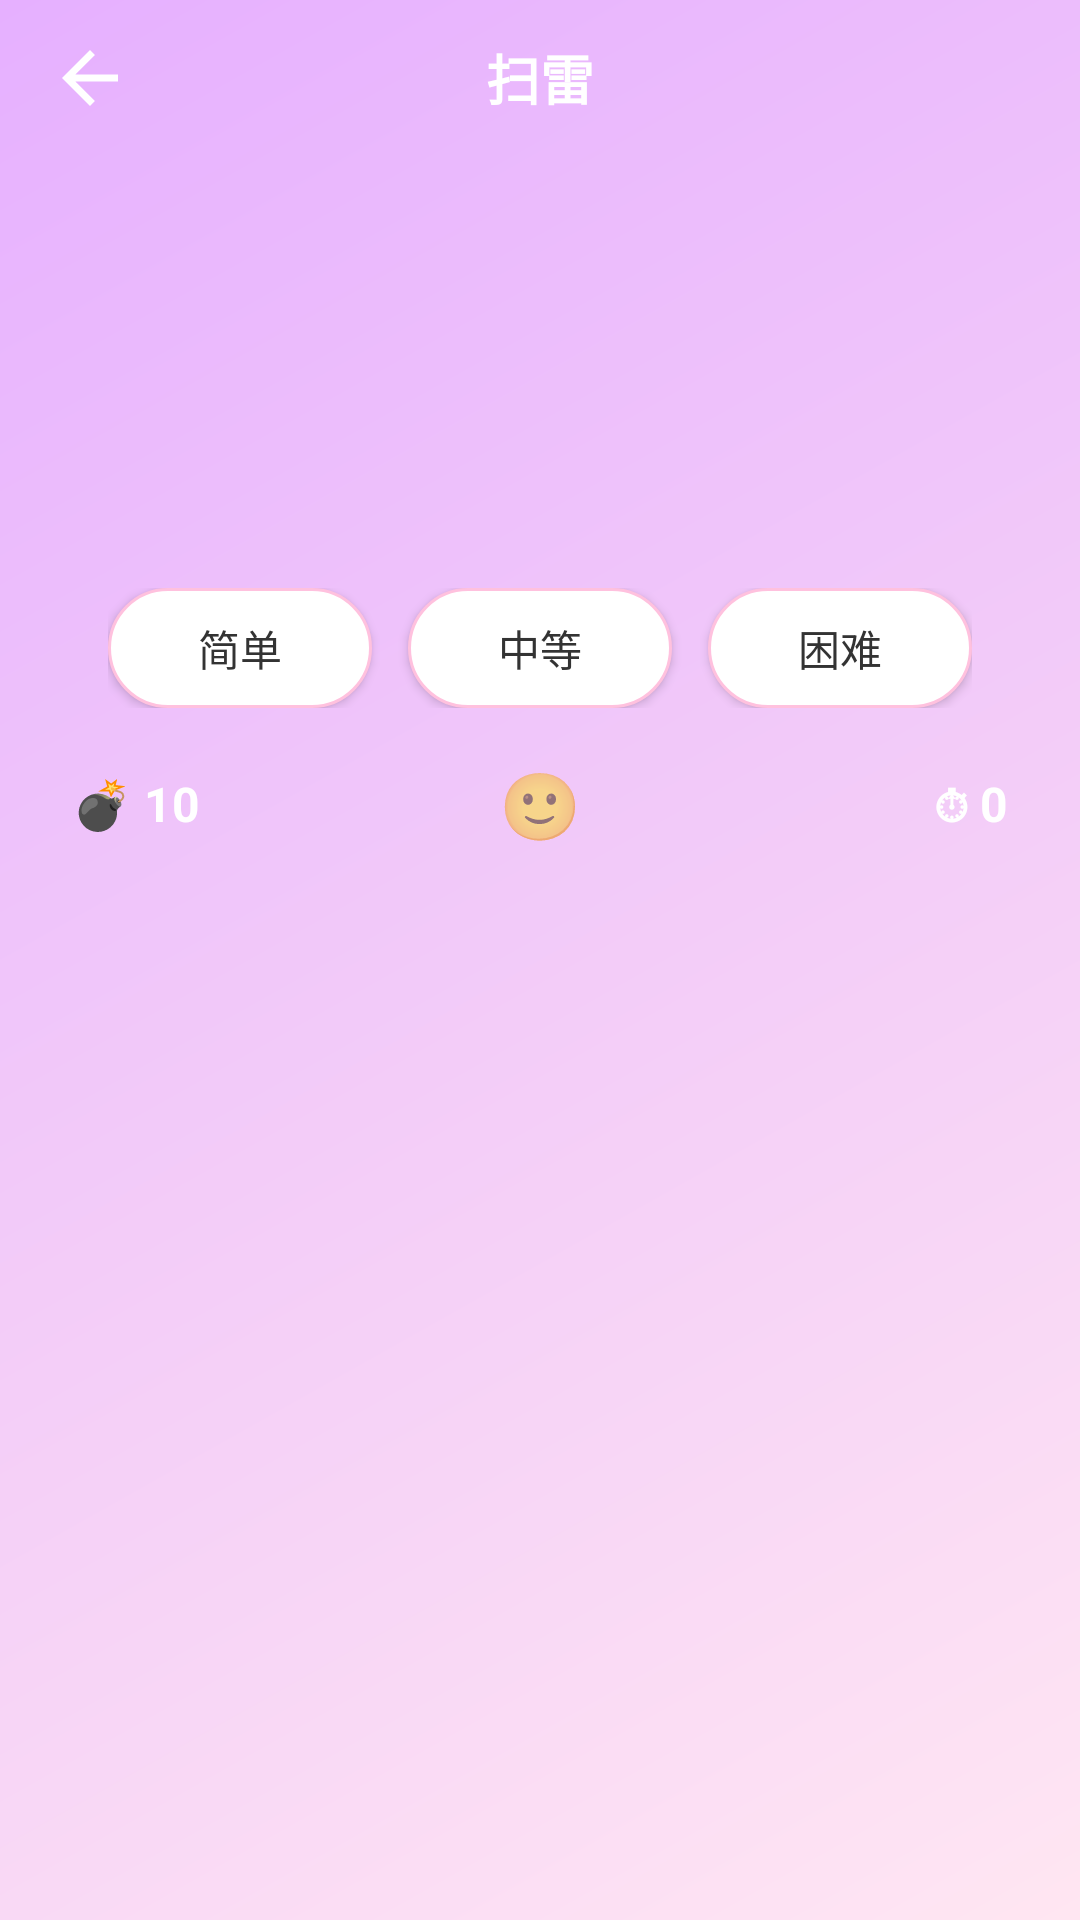

Named icons in this screenshot (1080*1920) and their bounding boxes, region(x1, y1, x2, y2):
返回: region(62, 50, 118, 106)
